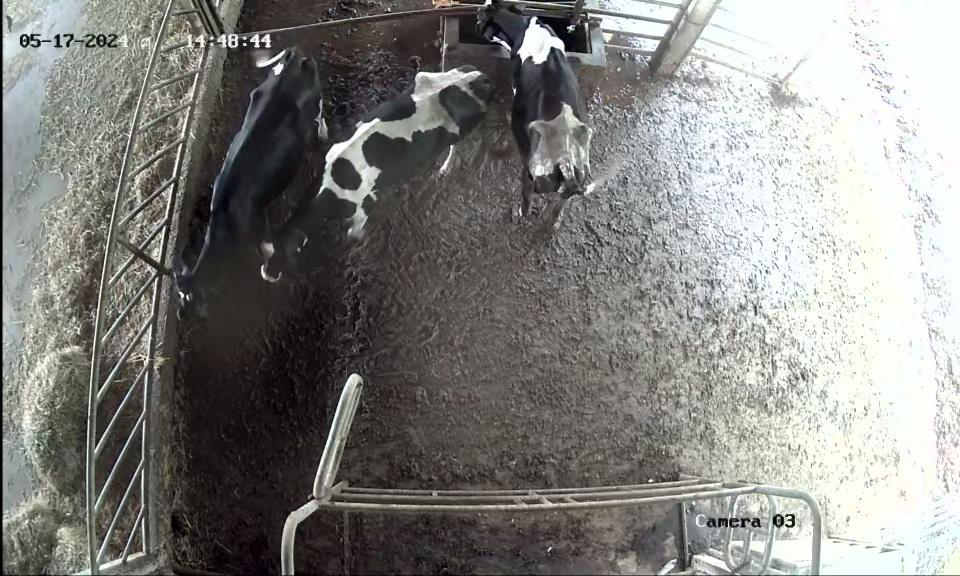drink: (470, 0, 561, 89)
stand: (257, 64, 497, 300), (150, 46, 330, 338)
